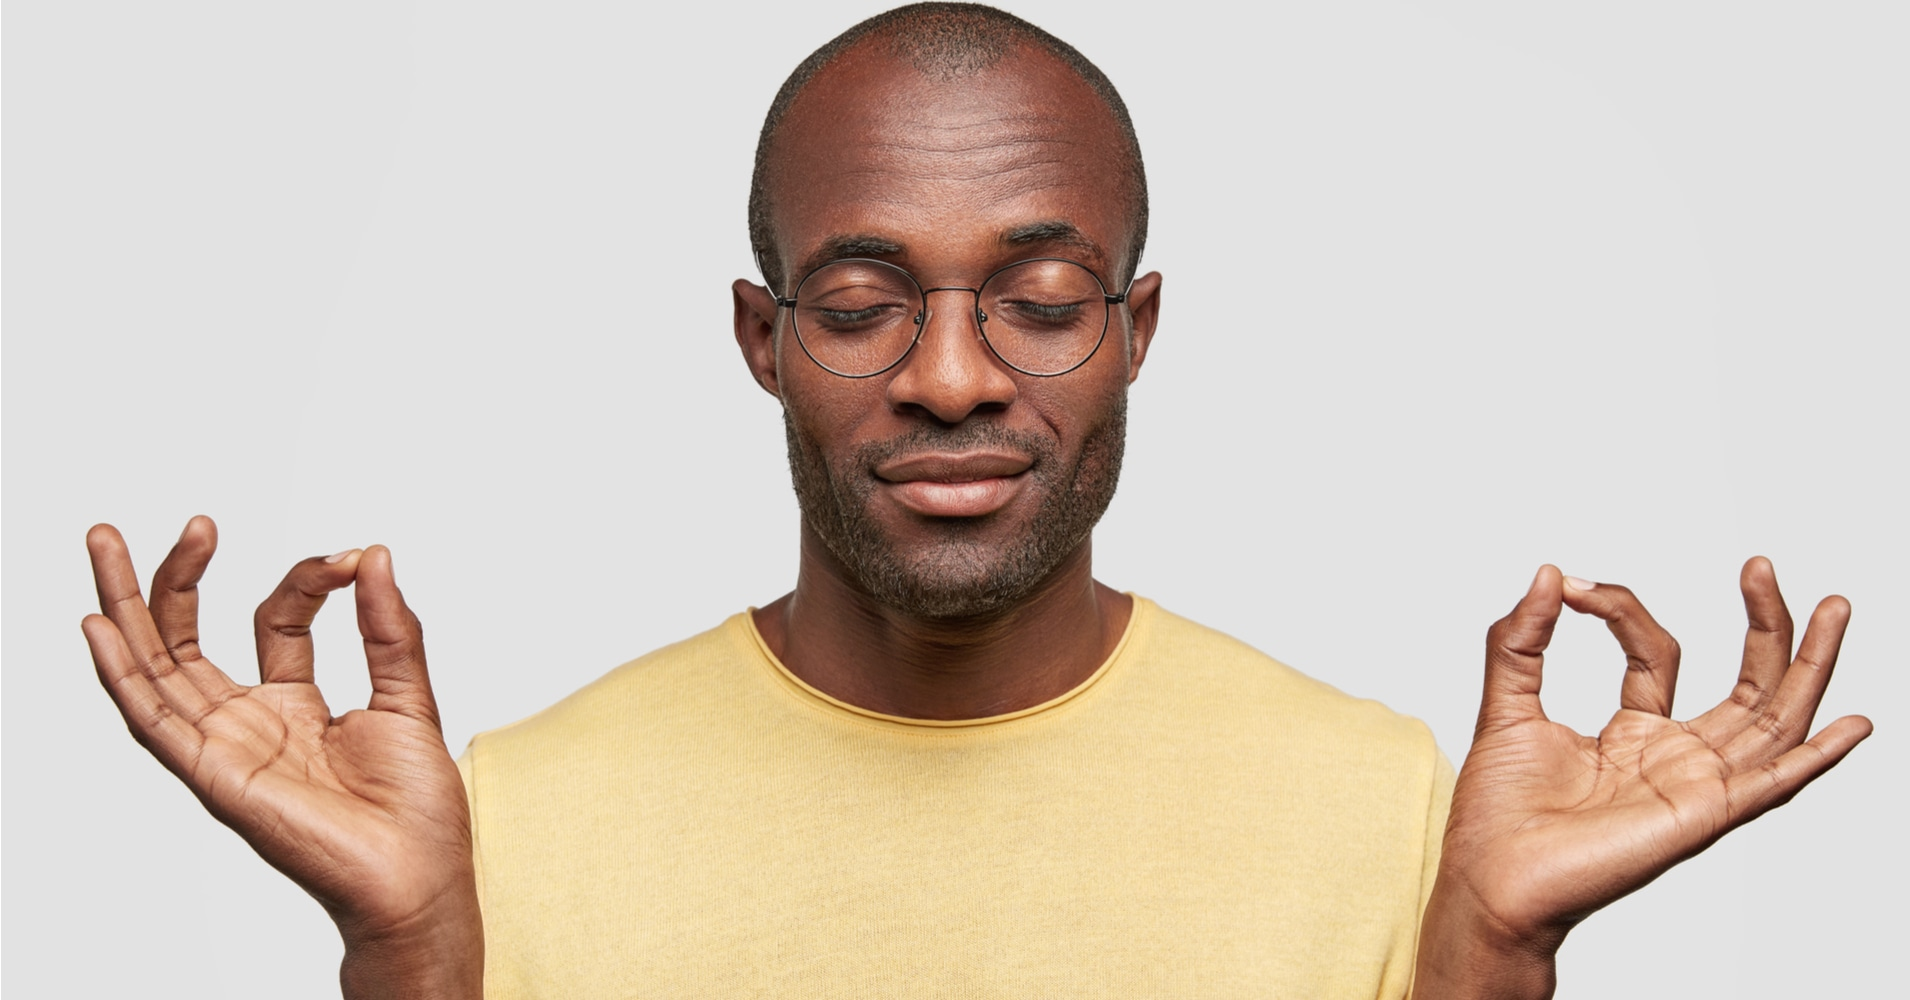human: (27, 3, 1910, 1000)
